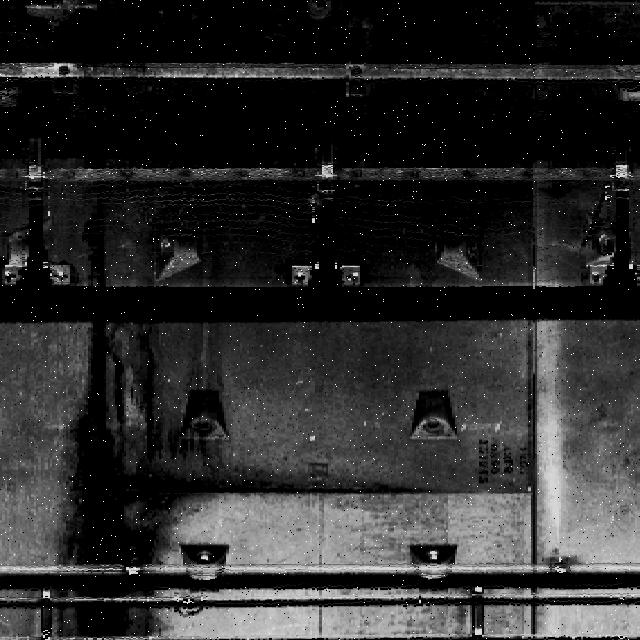leakage: (60, 317, 183, 640), (181, 443, 433, 520), (82, 177, 114, 290)
